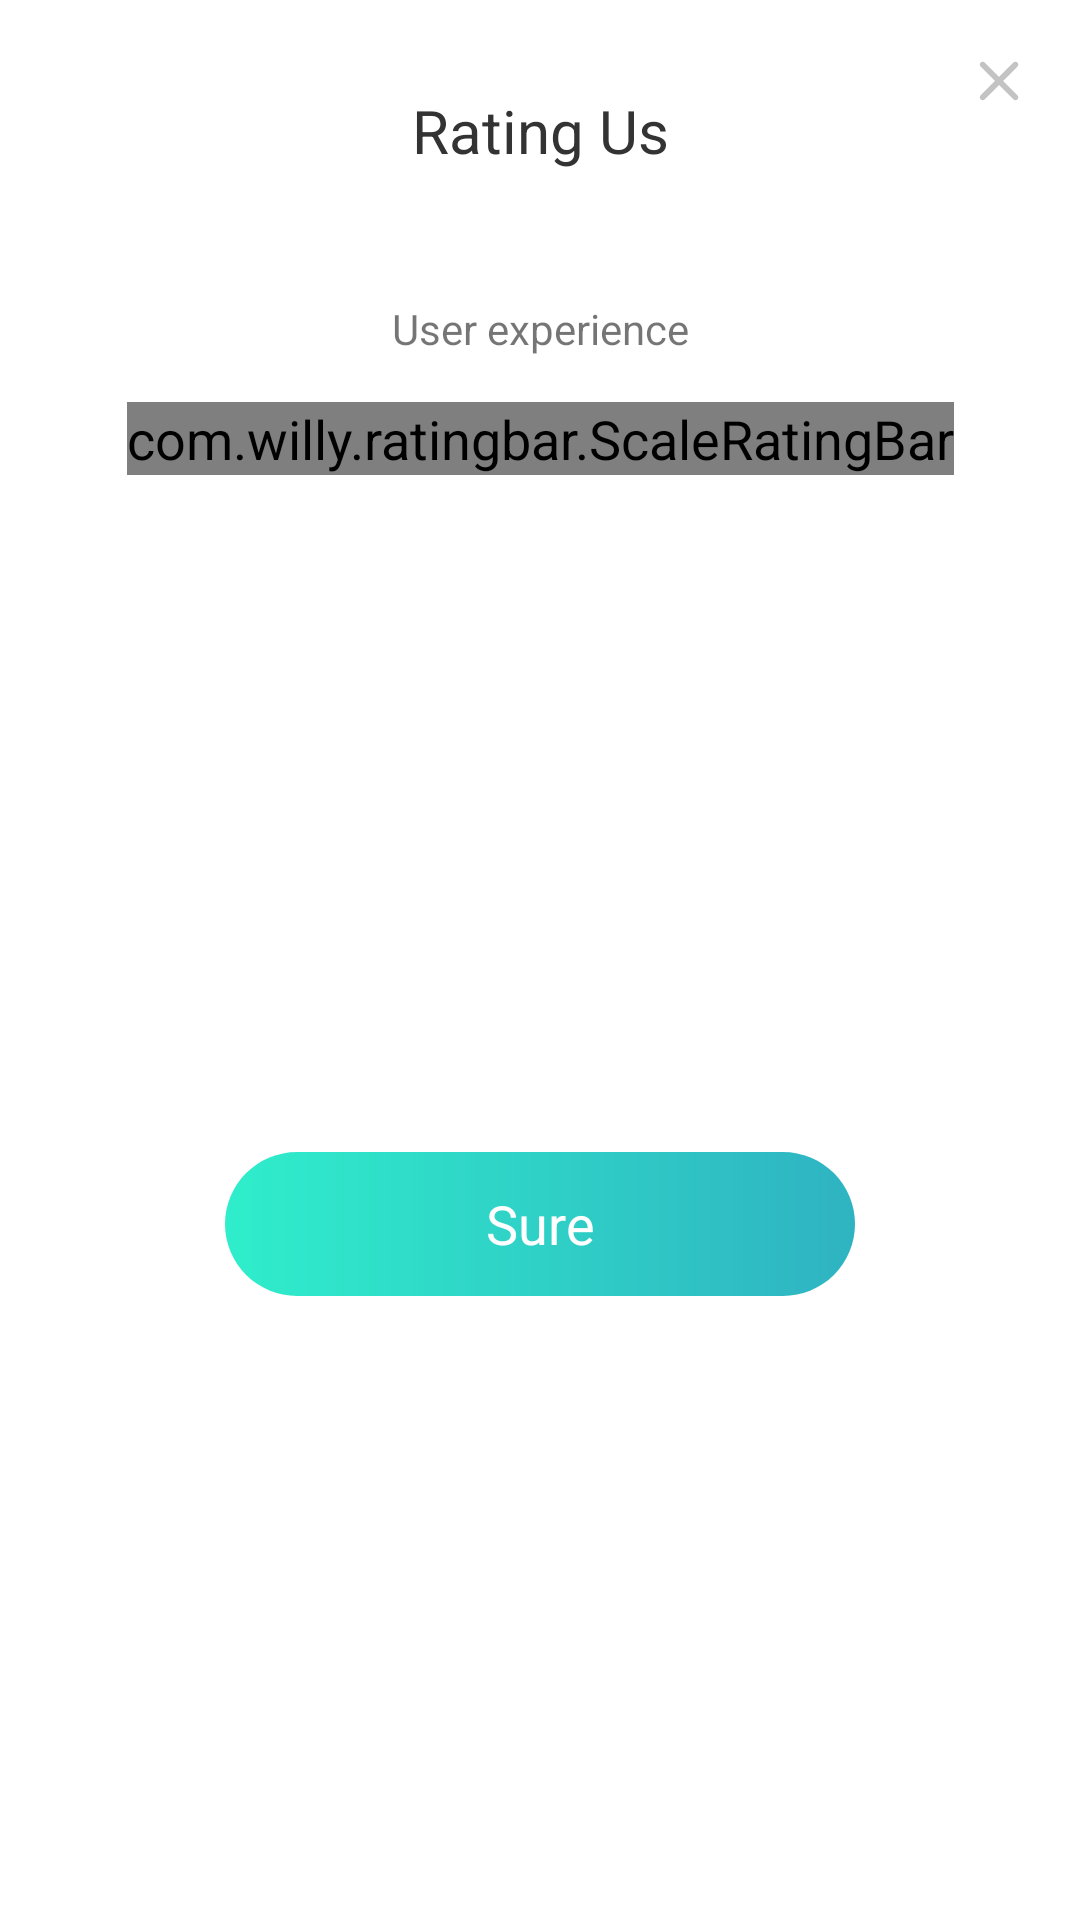

Locate icon controls on the screen. Image size 1080*1920, boxes as BBox(x1, y1, x2, y2).
permission close: BBox(980, 62, 1018, 100)
